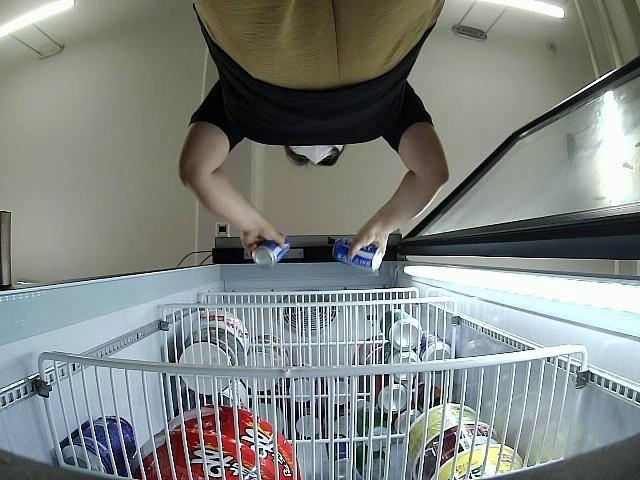13_pocariSweat: (332, 236, 384, 272), (251, 233, 292, 266)
